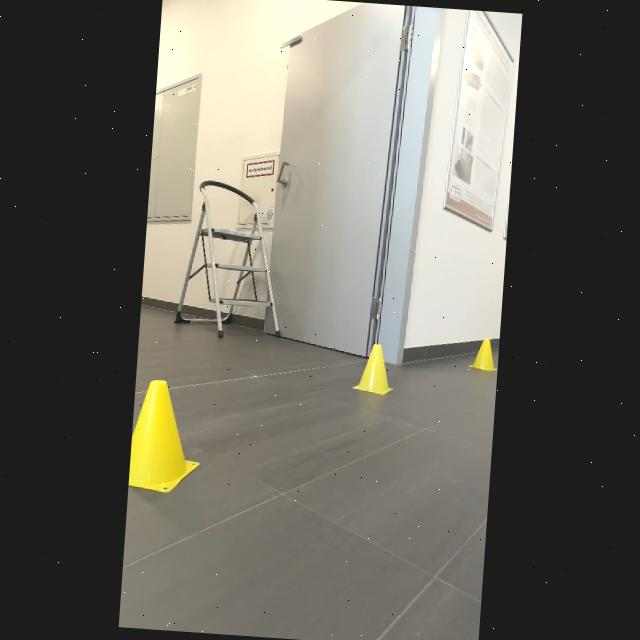yellow_cone: (128, 374, 210, 505), (348, 338, 403, 404), (464, 329, 500, 376)
